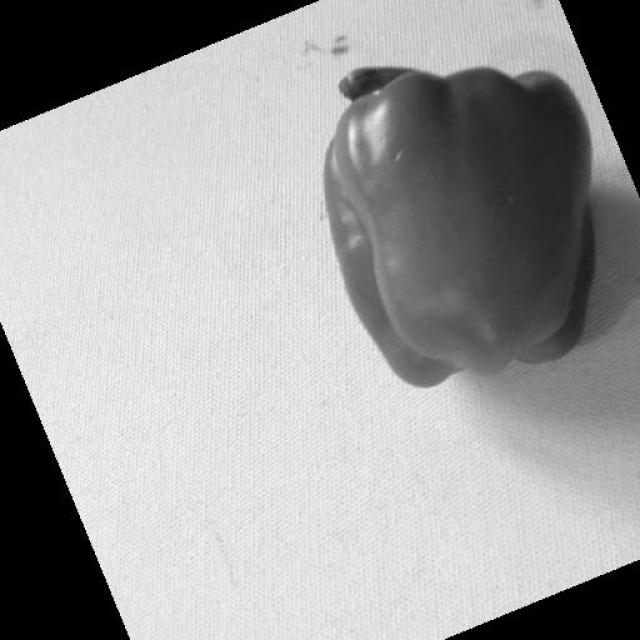Fresh_Capsicum: (288, 64, 610, 382)
